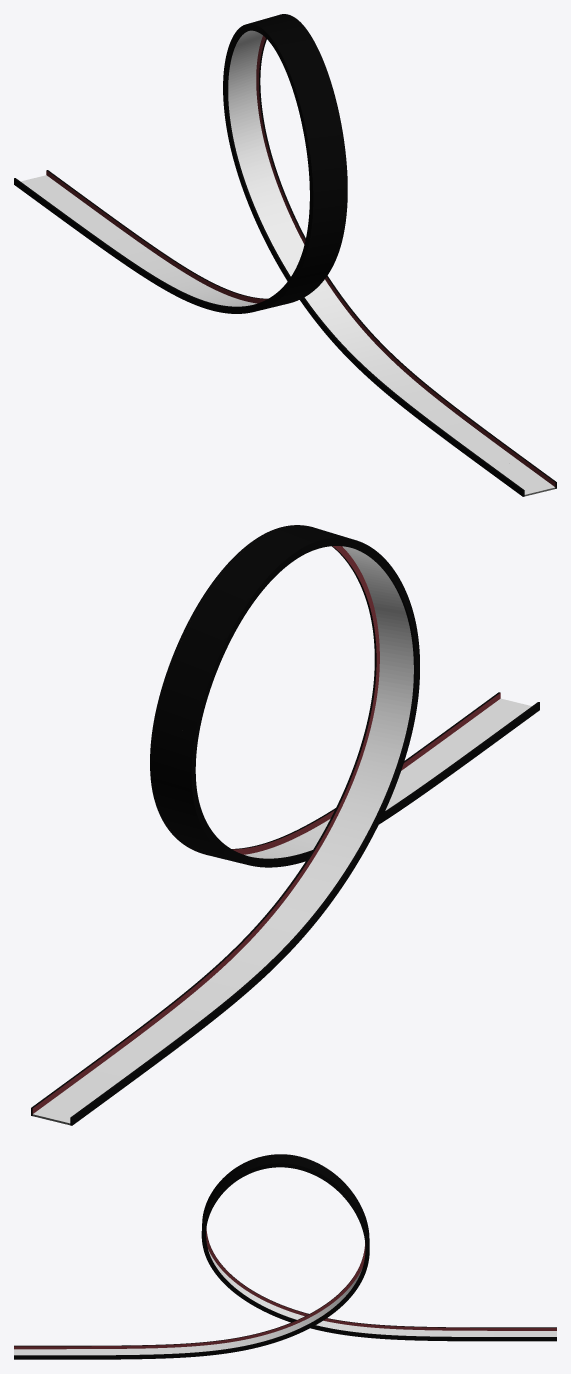
Rendered from Circle_Road.fbx.
3 renders of one model, top to bottom at view 1: azimuth 30°, elevation 25°; view 2: azimuth 150°, elevation 25°; view 3: azimuth 270°, elevation 25°, orthographic. The views are drawn at different scales.
Parts seen in each view (by area): view 1: Road Sides, Right Wall, Left Wall; view 2: Road Sides, Right Wall, Left Wall; view 3: Road Sides, Left Wall, Right Wall.
Part boxes in pixels (x1,y1,x2,y2): Road Sides: [21, 14, 555, 496]; Right Wall: [14, 23, 524, 496]; Left Wall: [46, 14, 556, 488]; Road Sides: [32, 525, 531, 1125]; Right Wall: [70, 537, 539, 1125]; Left Wall: [31, 525, 500, 1115]; Road Sides: [14, 1154, 556, 1355]; Left Wall: [14, 1163, 556, 1359]; Right Wall: [14, 1154, 556, 1349].
Bounding box in the file's own units: 6200 × 19068 × 50146.
